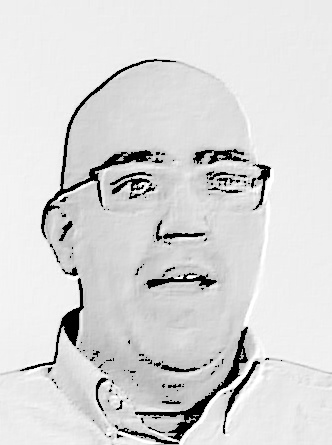nose_M_C: (155, 183, 211, 261)
